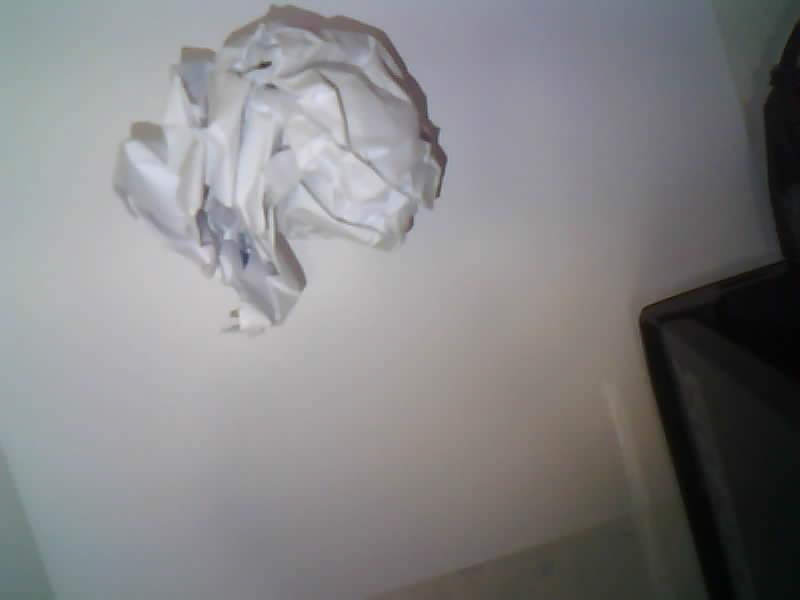biodegradable: (114, 6, 445, 333)
